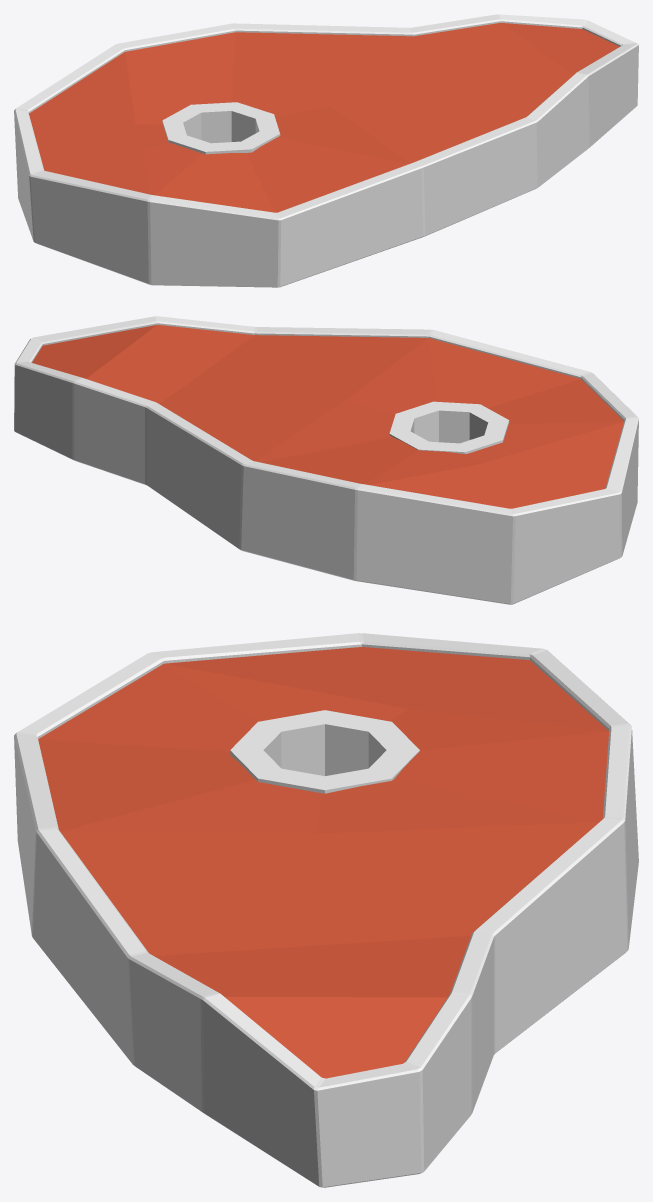
Rendered from meet.fbx.
3 renders of one model, top to bottom at view 1: azimuth 30°, elevation 25°; view 2: azimuth 150°, elevation 25°; view 3: azimuth 270°, elevation 25°, orthographic. The views are drawn at different scales.
Parts seen in each view (by area): view 1: Cube, Cylinder; view 2: Cube, Cylinder; view 3: Cube, Cylinder.
Boxes of the visible parts, x1,y1,x2,y2 form: Cube: [14, 14, 638, 287]; Cylinder: [162, 102, 280, 154]; Cube: [14, 316, 638, 604]; Cylinder: [389, 401, 509, 454]; Cube: [14, 633, 638, 1187]; Cylinder: [230, 710, 419, 793].
Bounding box in the file's own units: 770 × 129 × 450.
Materials: 2 (2 with a texture image).
